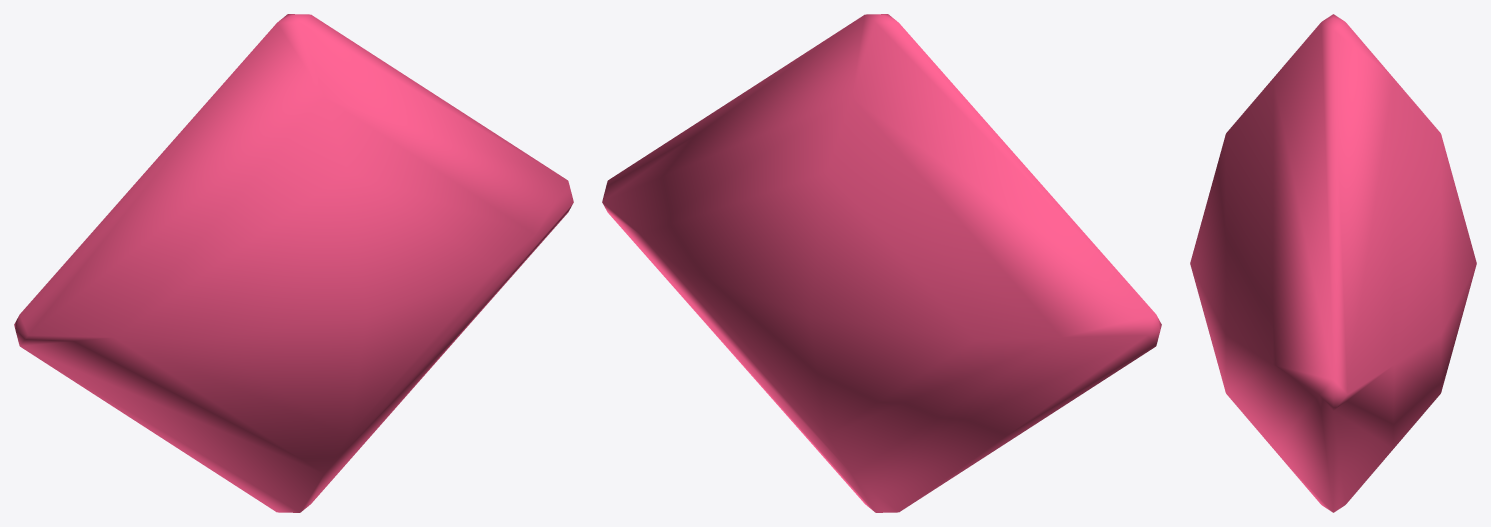
Rendered from JemStone.fbx.
3 views of the same model, side by side, from view 1: azimuth 30°, elevation 25°; view 2: azimuth 150°, elevation 25°; view 3: azimuth 270°, elevation 25° (orthographic).
Visible parts, largest first — view 1: JemStone; view 2: JemStone; view 3: JemStone.
Part boxes in pixels (x1,y1,x2,y2): JemStone: [14, 14, 573, 512]; JemStone: [602, 14, 1161, 512]; JemStone: [1190, 14, 1476, 512].
Bounding box in the file's own units: 170 × 145 × 76.83.
